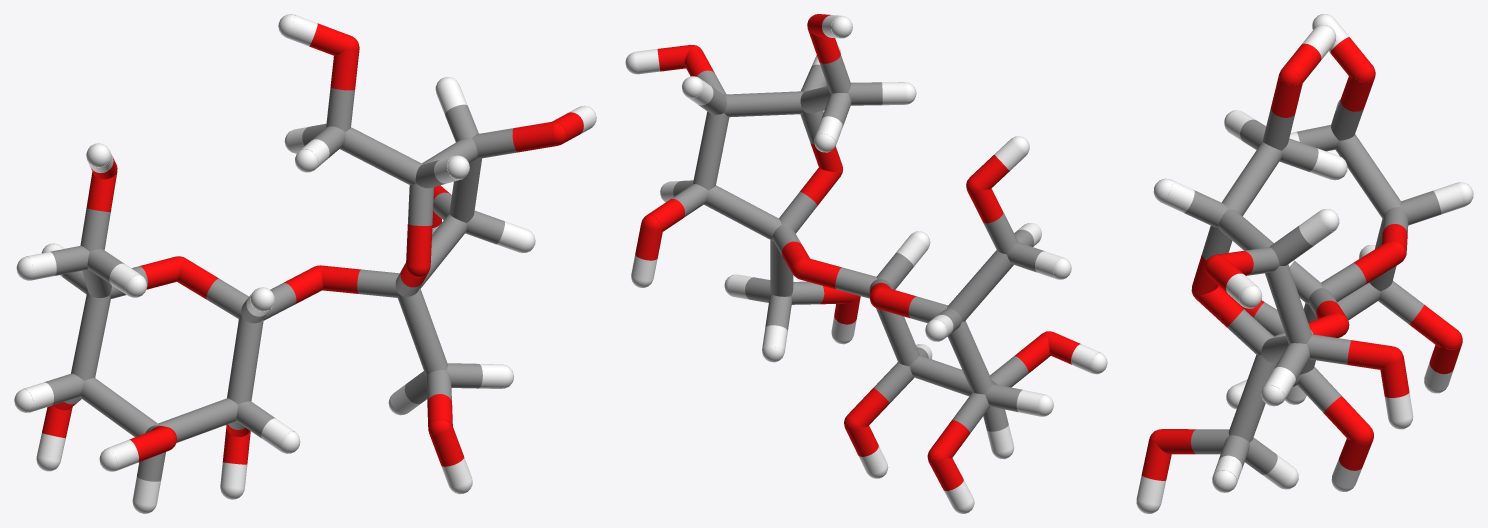
The model's file is Sucrose.glb.
3 renders of one model, left to right at view 1: azimuth 30°, elevation 25°; view 2: azimuth 150°, elevation 25°; view 3: azimuth 270°, elevation 25°, orthographic. The views are drawn at different scales.
Visible parts, largest first — view 1: primitive_color (×36); view 2: primitive_color (×45); view 3: primitive_color (×67).
Boxes of the visible parts, bbox=[...] form: primitive_color (×36): bbox=[42, 23, 557, 466]; primitive_color (×45): bbox=[635, 28, 1080, 490]; primitive_color (×67): bbox=[1136, 27, 1465, 504].
Size of the model in its own units: 9.85 by 8.54 by 5.34.
